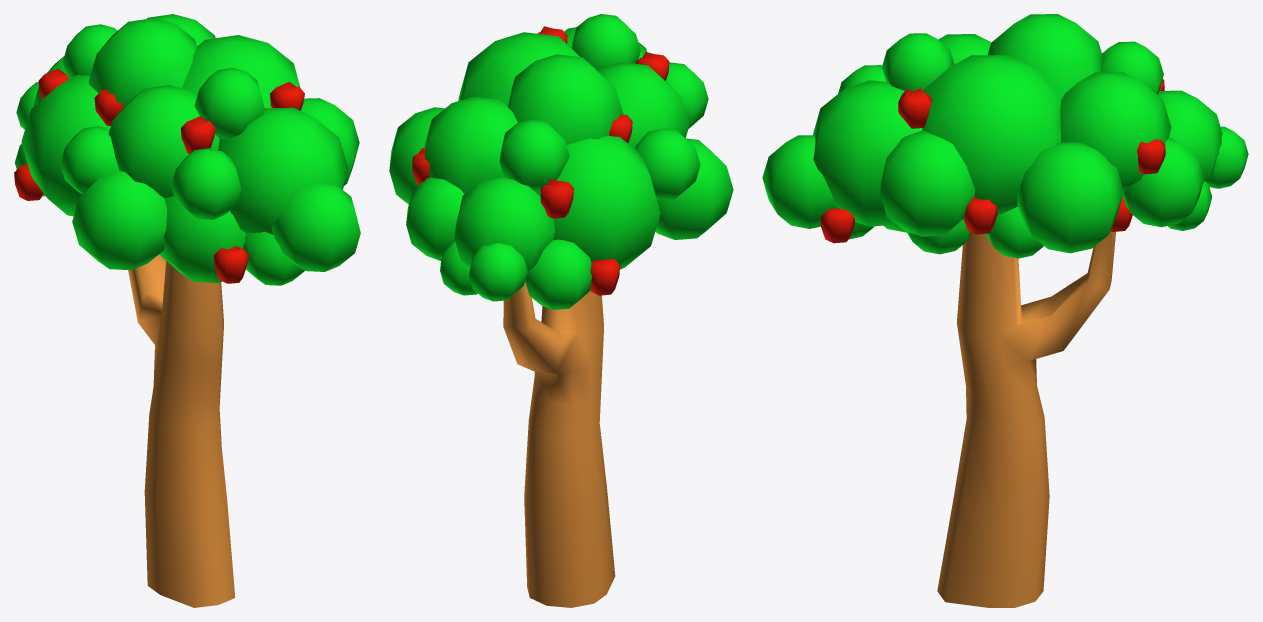
Rendered from 1Tree 1.fbx.
3 views of the same model, side by side, from view 1: azimuth 30°, elevation 25°; view 2: azimuth 150°, elevation 25°; view 3: azimuth 270°, elevation 25° (orthographic). The views are drawn at different scales.
Visible parts, largest first — view 1: Circle; view 2: Circle; view 3: Circle.
Boxes of the visible parts, x1,y1,x2,y2 form: Circle: [14, 14, 360, 607]; Circle: [389, 14, 733, 607]; Circle: [762, 14, 1248, 607].
Size of the model in its own units: 869 by 1681 by 1311.
